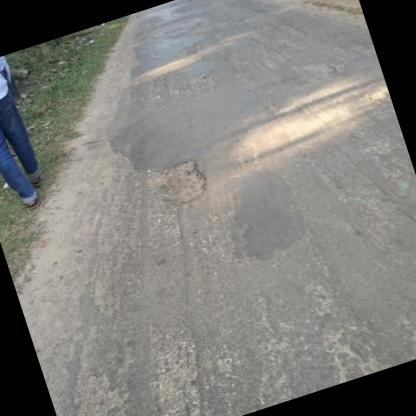pothole: (144, 151, 215, 216)
